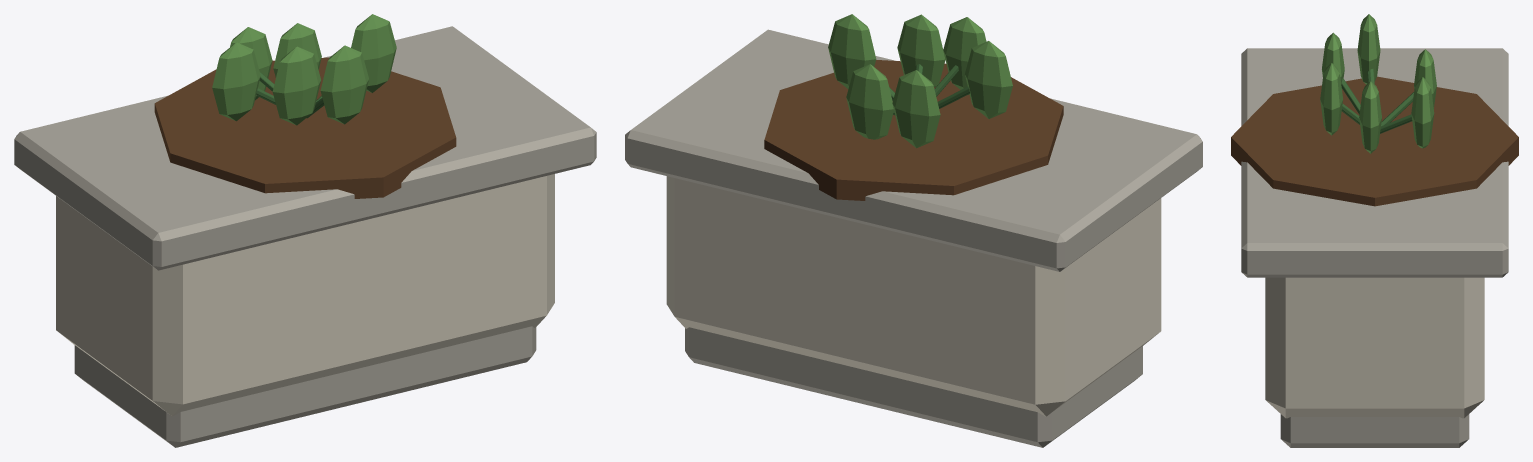
The model's file is runtime.glb.
The picture shows the model from 3 angles, left to right: view 1: azimuth 30°, elevation 25°; view 2: azimuth 150°, elevation 25°; view 3: azimuth 270°, elevation 25°; orthographic projection. The views are drawn at different scales.
Parts seen in each view (by area): view 1: eiffel-historic-urn-v04_nocol; view 2: eiffel-historic-urn-v04_nocol; view 3: eiffel-historic-urn-v04_nocol.
Boxes of the visible parts, bbox=[...] form: eiffel-historic-urn-v04_nocol: bbox=[14, 14, 596, 447]; eiffel-historic-urn-v04_nocol: bbox=[625, 14, 1202, 447]; eiffel-historic-urn-v04_nocol: bbox=[1231, 14, 1518, 447].
Size of the model in its own units: 1.85 by 1.39 by 1.13.
